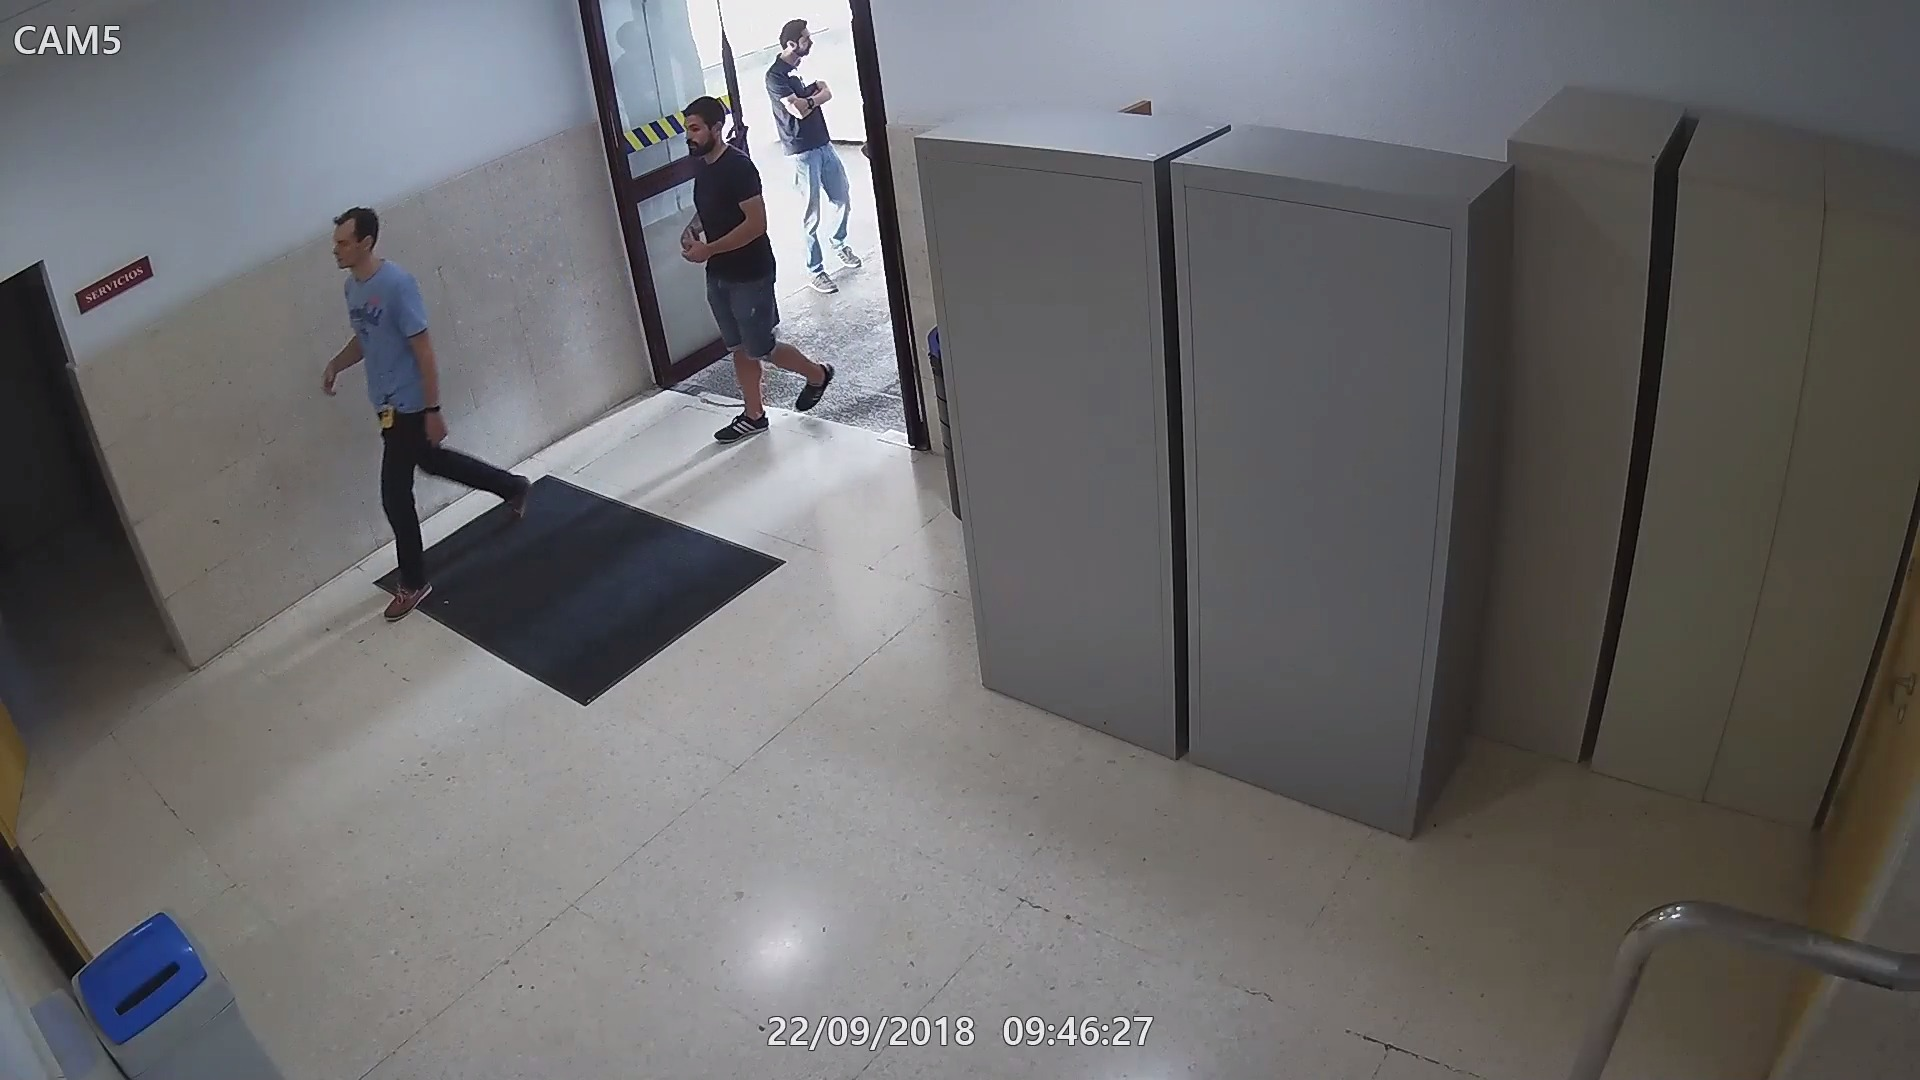Handgun: (679, 222, 705, 258)
